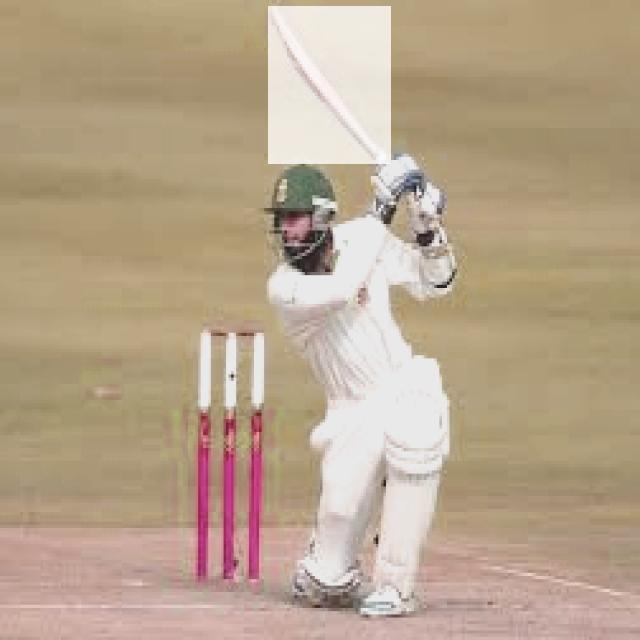bat: (268, 3, 394, 163)
toe: (269, 3, 286, 21)
